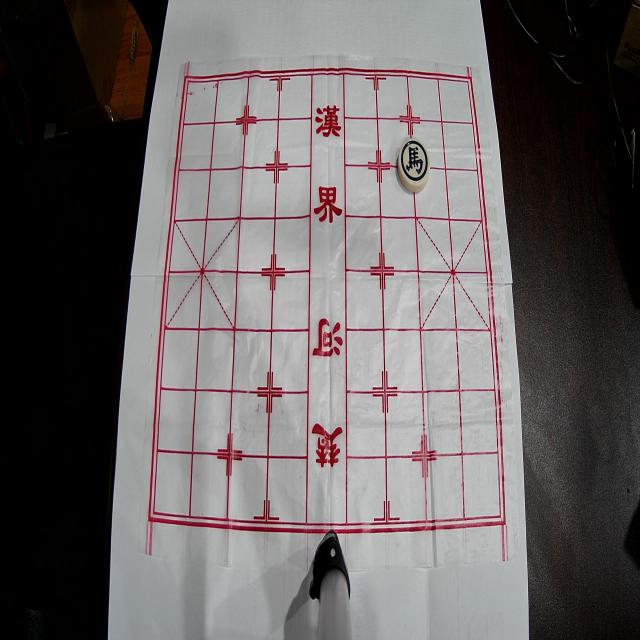black-horse: (398, 138, 430, 192)
